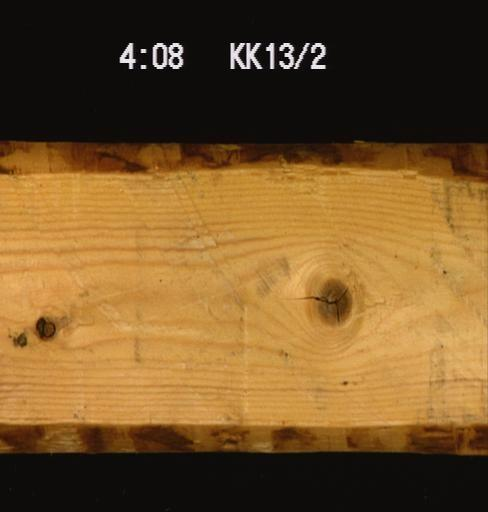sound_knot: (311, 273, 356, 328)
wave: (0, 142, 487, 189), (0, 408, 487, 451)
